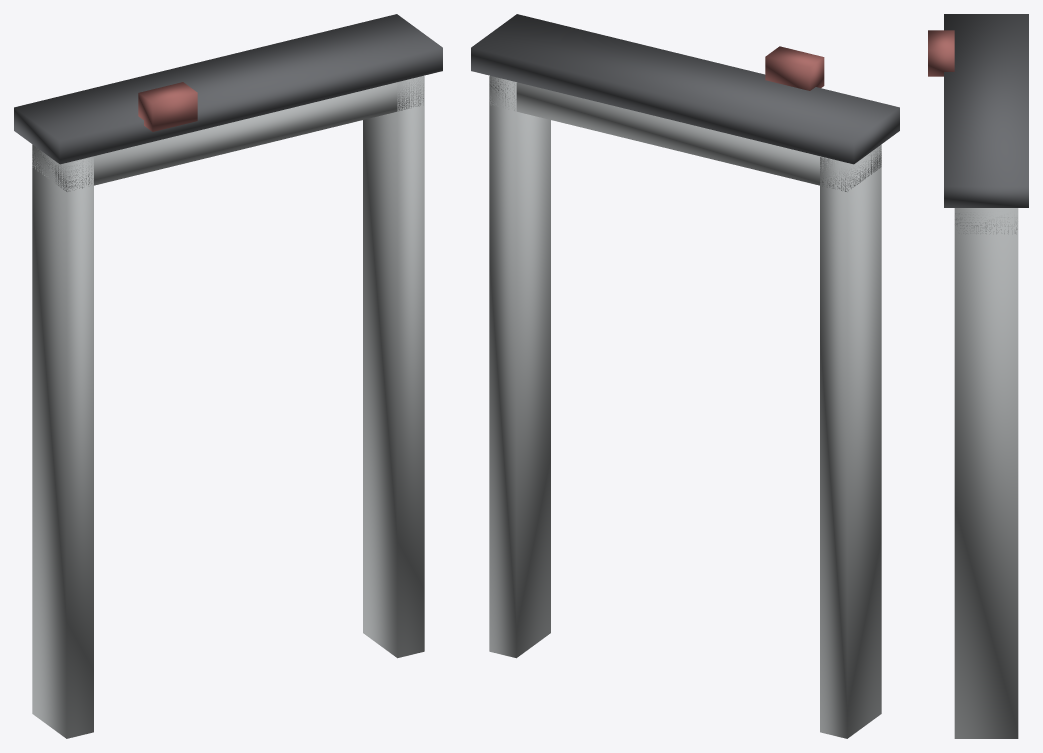
The model's file is doorway_fire_rated_w122_h210_d24.glb.
The picture shows the model from 3 angles, left to right: view 1: azimuth 30°, elevation 25°; view 2: azimuth 150°, elevation 25°; view 3: azimuth 270°, elevation 25°; orthographic projection. The views are drawn at different scales.
Parts seen in each view (by area): view 1: world; view 2: world; view 3: world.
Part boxes in pixels (x1,y1,x2,y2): world: (14, 14, 442, 738); world: (471, 14, 899, 738); world: (928, 14, 1028, 738).
Size of the model in its own units: 1.54 by 2.41 by 0.38.
